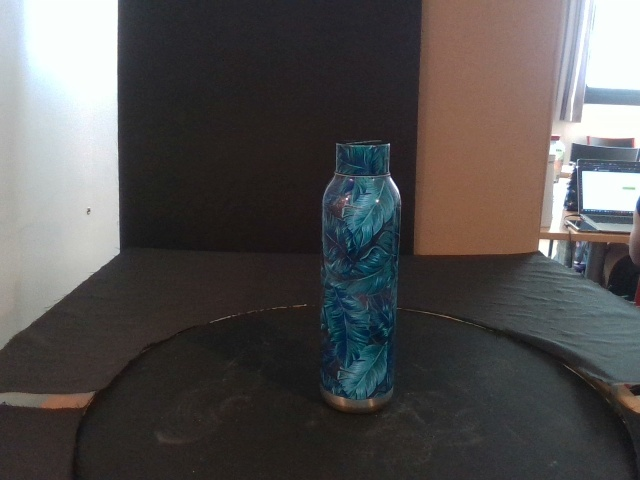bottle: (319, 141, 403, 406)
